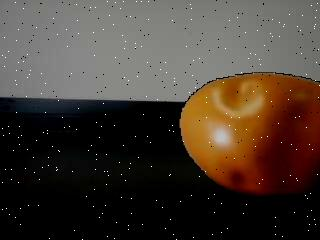Potato: (179, 72, 320, 200)
